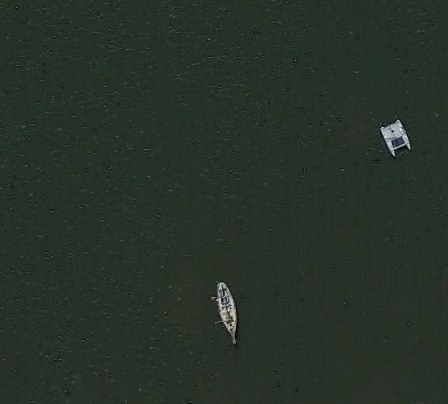boat: (211, 281, 239, 347), (378, 119, 413, 158)
